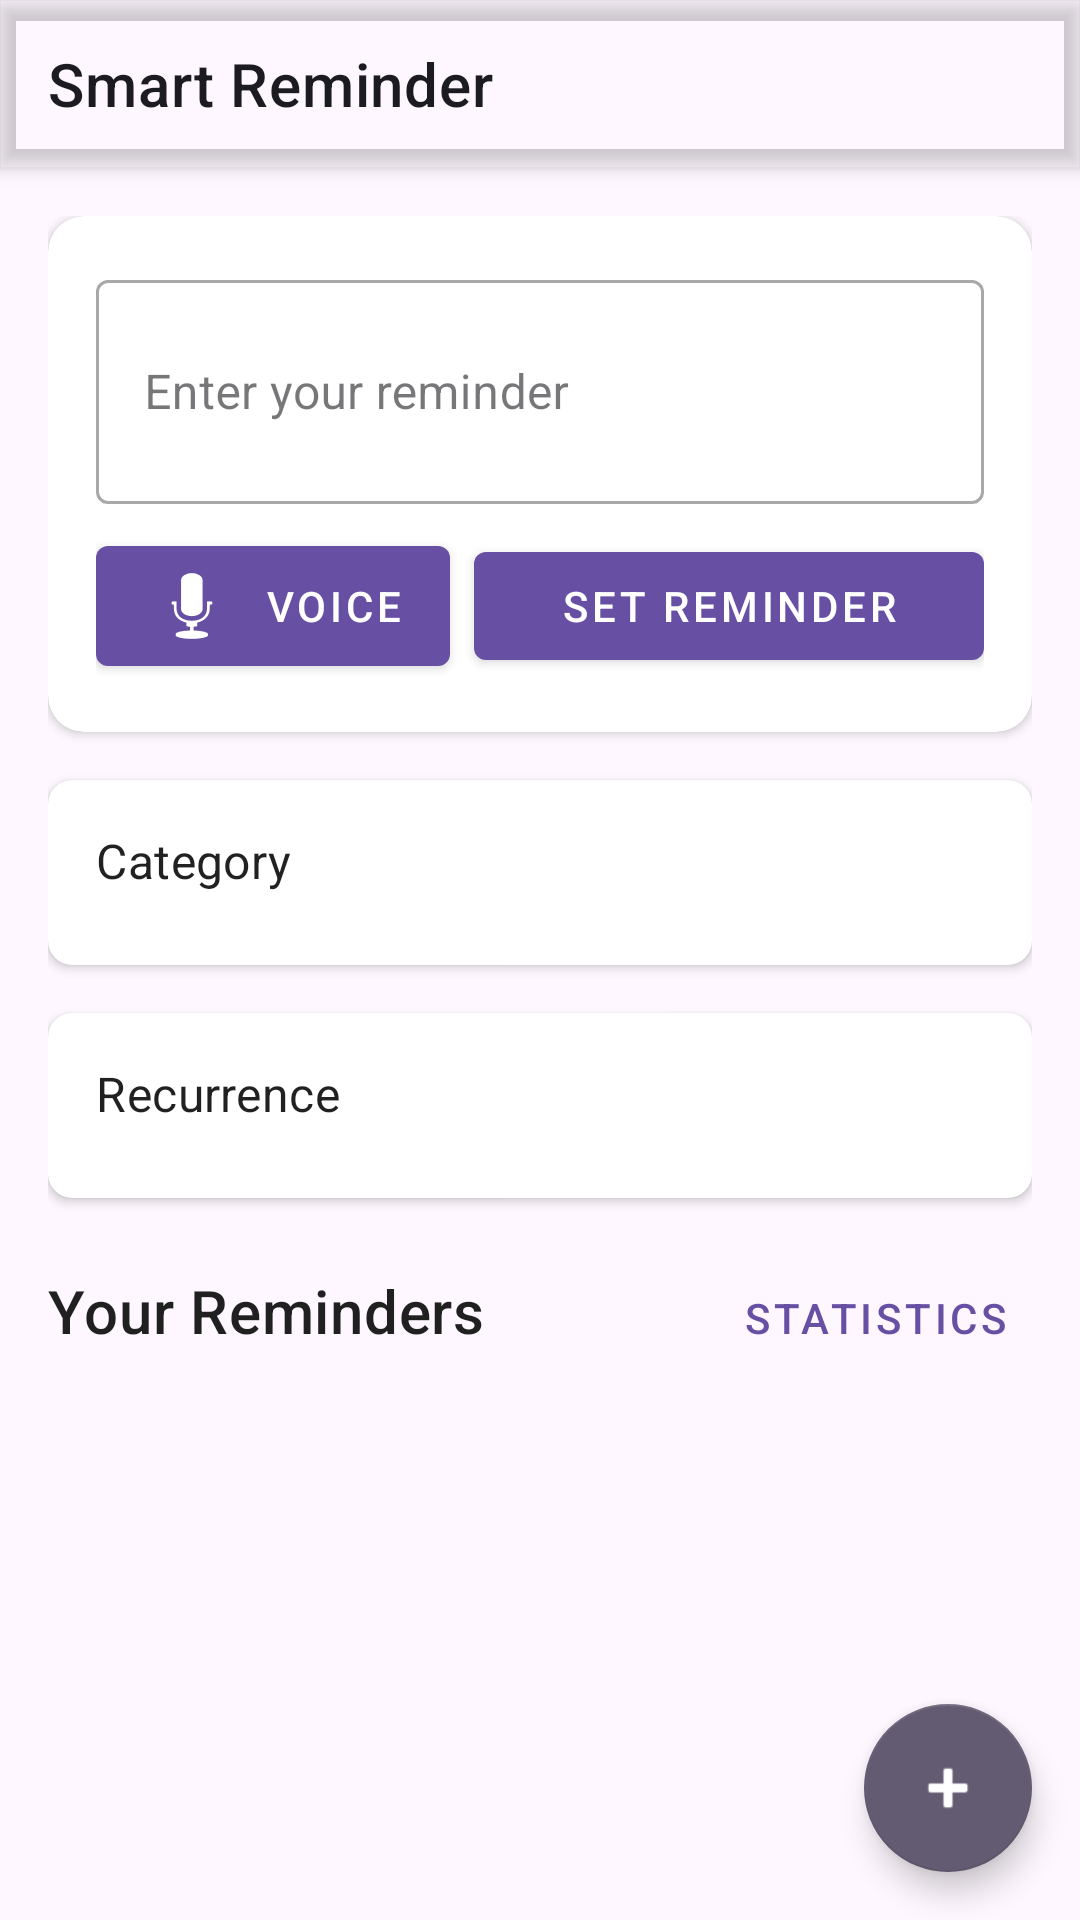

Icon click points for this 1080×1920 phone screenshot, format (x=x, y=y):
Add reminder: (x=948, y=1788)
